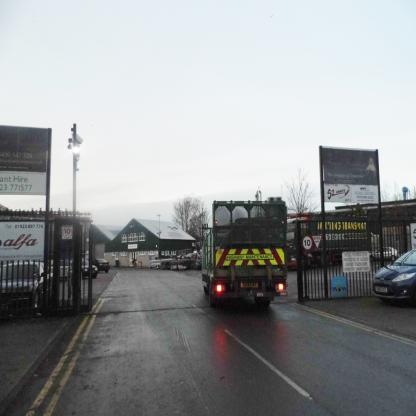Car: (0, 252, 109, 318), (372, 249, 415, 305), (371, 242, 396, 260)
Truck: (202, 200, 290, 308), (279, 212, 343, 271)
